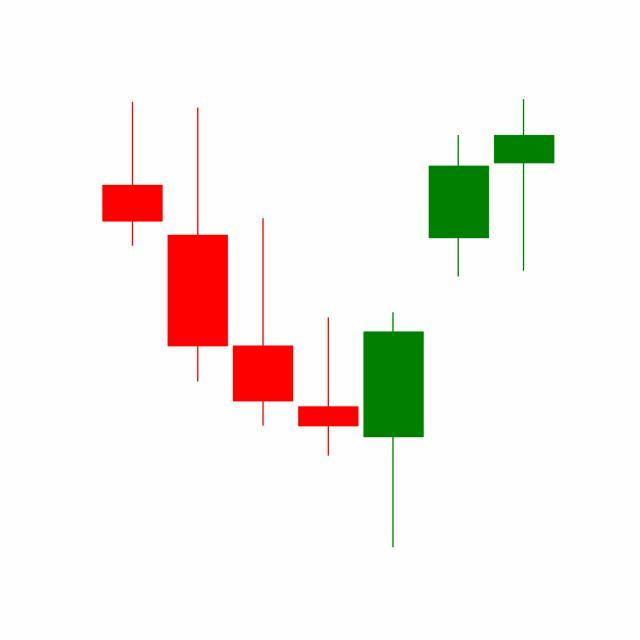Three Outside Up-Down: (295, 130, 492, 548)
